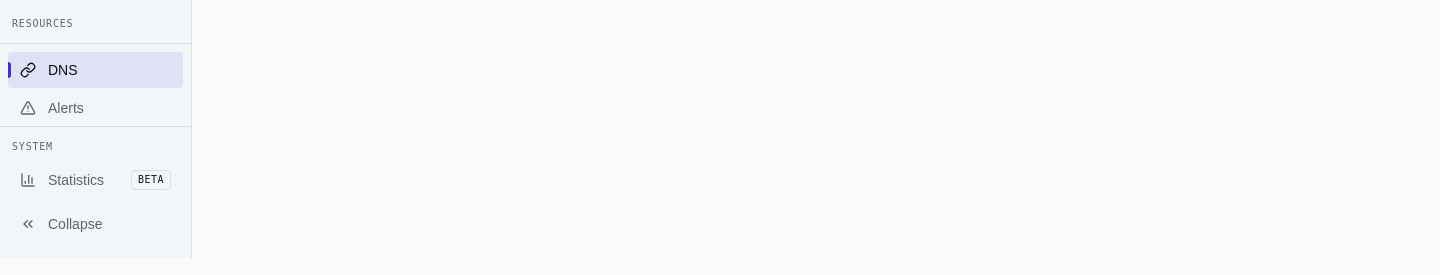
Test: PortalSidebar soft material › toggles collapsed state and updates label
The width and height of the screenshot is (1440, 275).
Click the button with aria-label "Collapse sidebar" at (96, 224), box [8, 206, 183, 242]
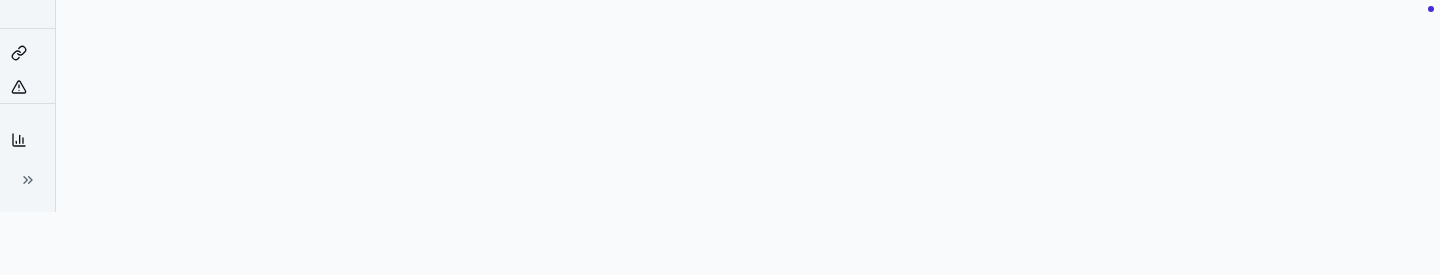
expect the button named "Expand sidebar" is collapsed: met, box [8, 164, 47, 196]
